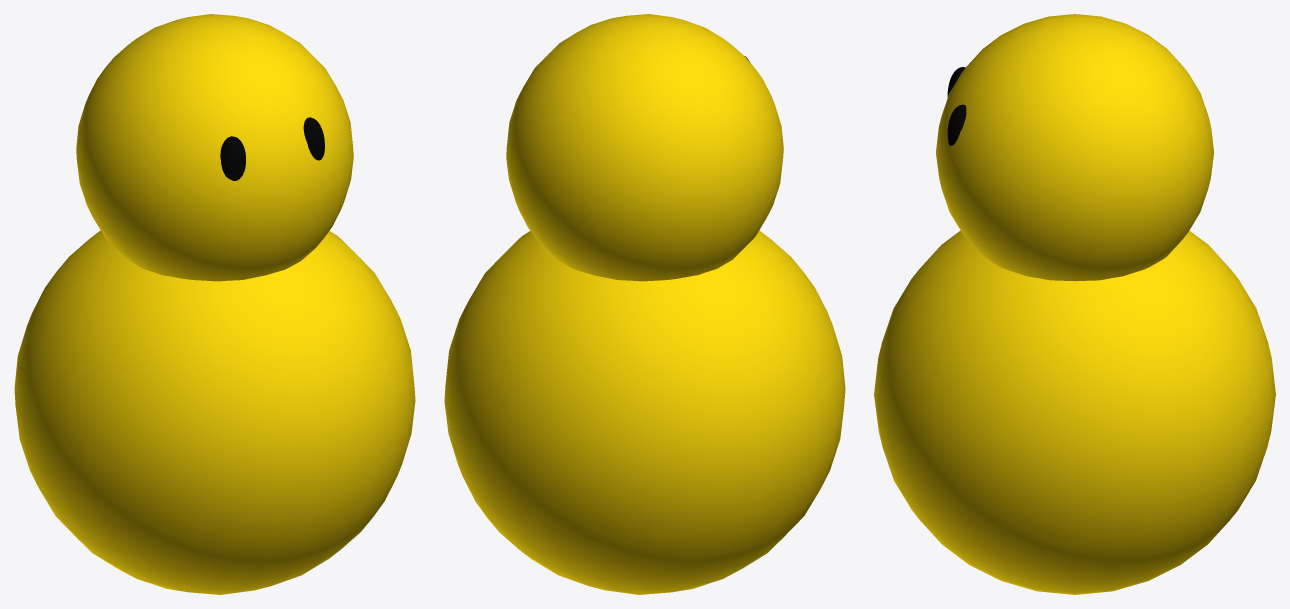
The model's file is PlayerVisual.gltf.
3 views of the same model, side by side, from view 1: azimuth 30°, elevation 25°; view 2: azimuth 150°, elevation 25°; view 3: azimuth 270°, elevation 25° (orthographic).
Visible parts, largest first — view 1: Body, Head, Eye_R, Eye_L; view 2: Body, Head; view 3: Body, Head, Eye_L.
Part boxes in pixels (<box>): Body: <box>14,230,415,594</box>; Head: <box>76,14,353,281</box>; Eye_R: <box>220,136,245,180</box>; Eye_L: <box>303,117,324,160</box>; Body: <box>444,230,845,594</box>; Head: <box>506,14,783,281</box>; Body: <box>874,230,1275,594</box>; Head: <box>936,14,1213,281</box>; Eye_L: <box>947,104,966,145</box>.
Bounding box in the file's own units: 1.3 × 1.96 × 1.3.
